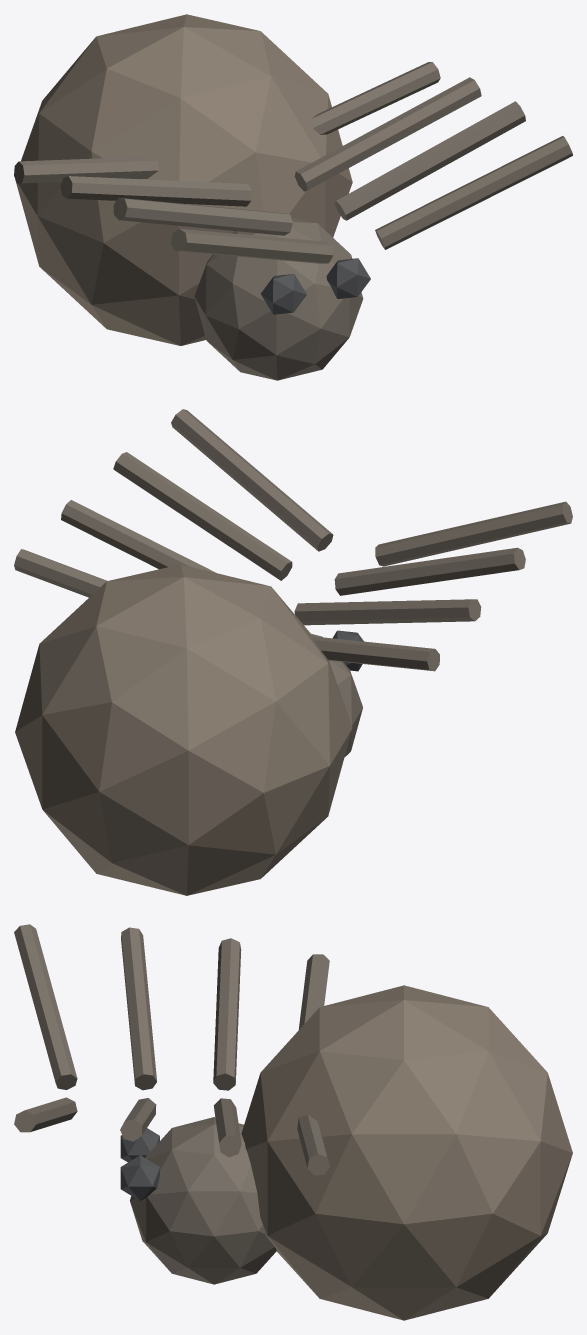
The model's file is cyrtophora-cicatrosa.glb.
The picture shows the model from 3 angles, top to bottom: view 1: azimuth 30°, elevation 25°; view 2: azimuth 150°, elevation 25°; view 3: azimuth 270°, elevation 25°; orthographic projection.
Parts seen in each view (by area): view 1: abdomen, cephalothorax, leg01, leg11, leg21, leg2-1, leg1-1, leg0-1, leg31, leg3-1, eye-1, eye1; view 2: abdomen, leg11, leg0-1, leg01, leg1-1, leg2-1, leg21, leg3-1, leg31, cephalothorax; view 3: abdomen, cephalothorax, leg0-1, leg1-1, leg2-1, leg3-1, leg01, eye1, leg31, leg21, leg11, eye-1.
Boxes of the visible parts, box(x1,y1,x2,y2) form: abdomen: box(15, 14, 352, 345); cephalothorax: box(194, 217, 363, 380); leg01: box(375, 136, 572, 249); leg11: box(335, 101, 525, 220); leg21: box(294, 77, 481, 191); leg2-1: box(60, 176, 251, 206); leg1-1: box(113, 197, 292, 235); leg0-1: box(171, 229, 333, 263); leg31: box(311, 62, 440, 134); leg3-1: box(14, 157, 158, 183); eye-1: box(261, 274, 306, 314); eye1: box(326, 258, 370, 298); abdomen: box(15, 564, 352, 895); leg11: box(113, 452, 292, 580); leg0-1: box(375, 501, 572, 566); leg01: box(171, 409, 333, 551); leg1-1: box(334, 547, 525, 595); leg2-1: box(294, 599, 481, 625); leg21: box(61, 500, 215, 572); leg3-1: box(311, 636, 439, 671); leg31: box(14, 549, 106, 597); cephalothorax: box(311, 634, 362, 756); abdomen: box(241, 985, 572, 1320); cephalothorax: box(130, 1117, 276, 1284); leg0-1: box(14, 924, 77, 1089); leg1-1: box(121, 927, 156, 1090); leg2-1: box(213, 938, 241, 1090); leg3-1: box(298, 954, 329, 1029); leg01: box(14, 1097, 77, 1132); eye1: box(120, 1155, 159, 1200); leg31: box(297, 1114, 329, 1175); leg21: box(213, 1098, 241, 1157); leg11: box(120, 1098, 156, 1141); eye-1: box(120, 1128, 159, 1162).
Size of the model in its own units: 0.4572 by 0.32 by 0.5297.
